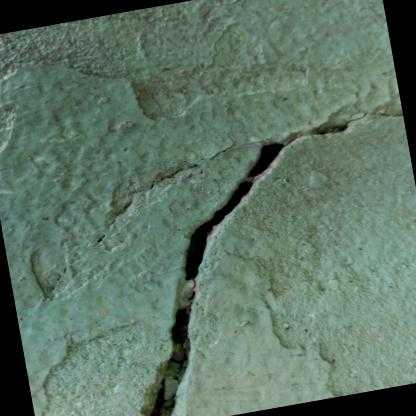crack: (145, 109, 370, 416)
